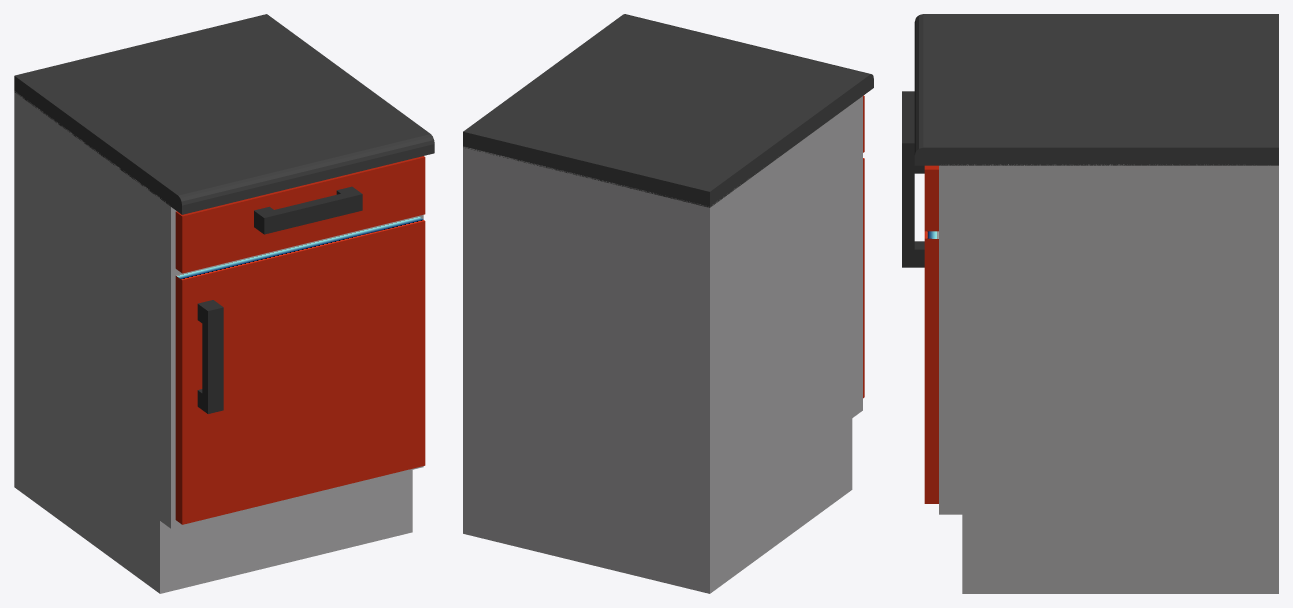
File: Küchenschrank02.fbx
3 renders of one model, left to right at view 1: azimuth 30°, elevation 25°; view 2: azimuth 150°, elevation 25°; view 3: azimuth 270°, elevation 25°, orthographic. The views are drawn at different scales.
Visible parts, largest first — view 1: Cube.015; view 2: Cube.015; view 3: Cube.015.
Boxes of the visible parts, x1=… form: Cube.015: x1=14, y1=14, x2=434, y2=593; Cube.015: x1=463, y1=14, x2=873, y2=593; Cube.015: x1=902, y1=14, x2=1278, y2=593.
Bounding box in the file's own units: 104 × 161 × 123.
